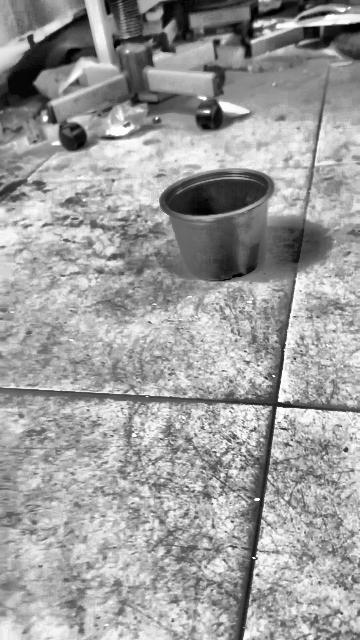pot: (160, 168, 273, 280)
